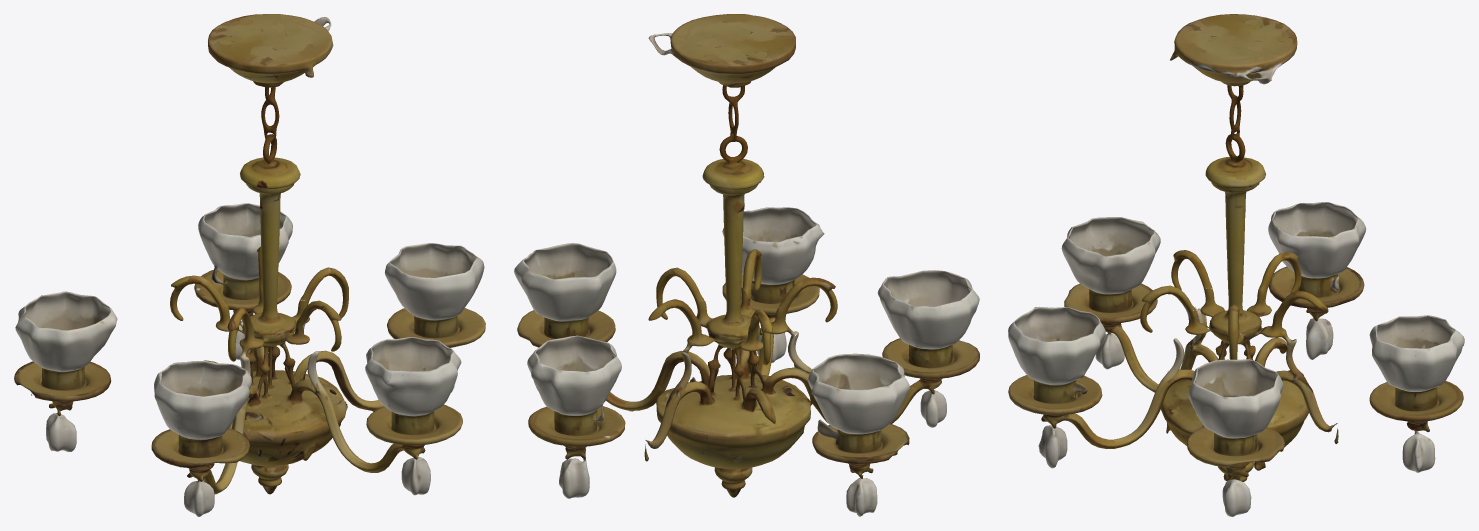
The model's file is g67_chandelier.glb.
3 views of the same model, side by side, from view 1: azimuth 30°, elevation 25°; view 2: azimuth 150°, elevation 25°; view 3: azimuth 270°, elevation 25° (orthographic).
Parts seen in each view (by area): view 1: tripo_node_cf5b84fc; view 2: tripo_node_cf5b84fc; view 3: tripo_node_cf5b84fc.
Part boxes in pixels (bbox=[...]): tripo_node_cf5b84fc: bbox=[14, 14, 485, 516]; tripo_node_cf5b84fc: bbox=[514, 14, 979, 516]; tripo_node_cf5b84fc: bbox=[1008, 14, 1464, 516].
Bounding box in the file's own units: 93.9 × 97.93 × 89.88.
Materials: 1 (1 with a texture image).
